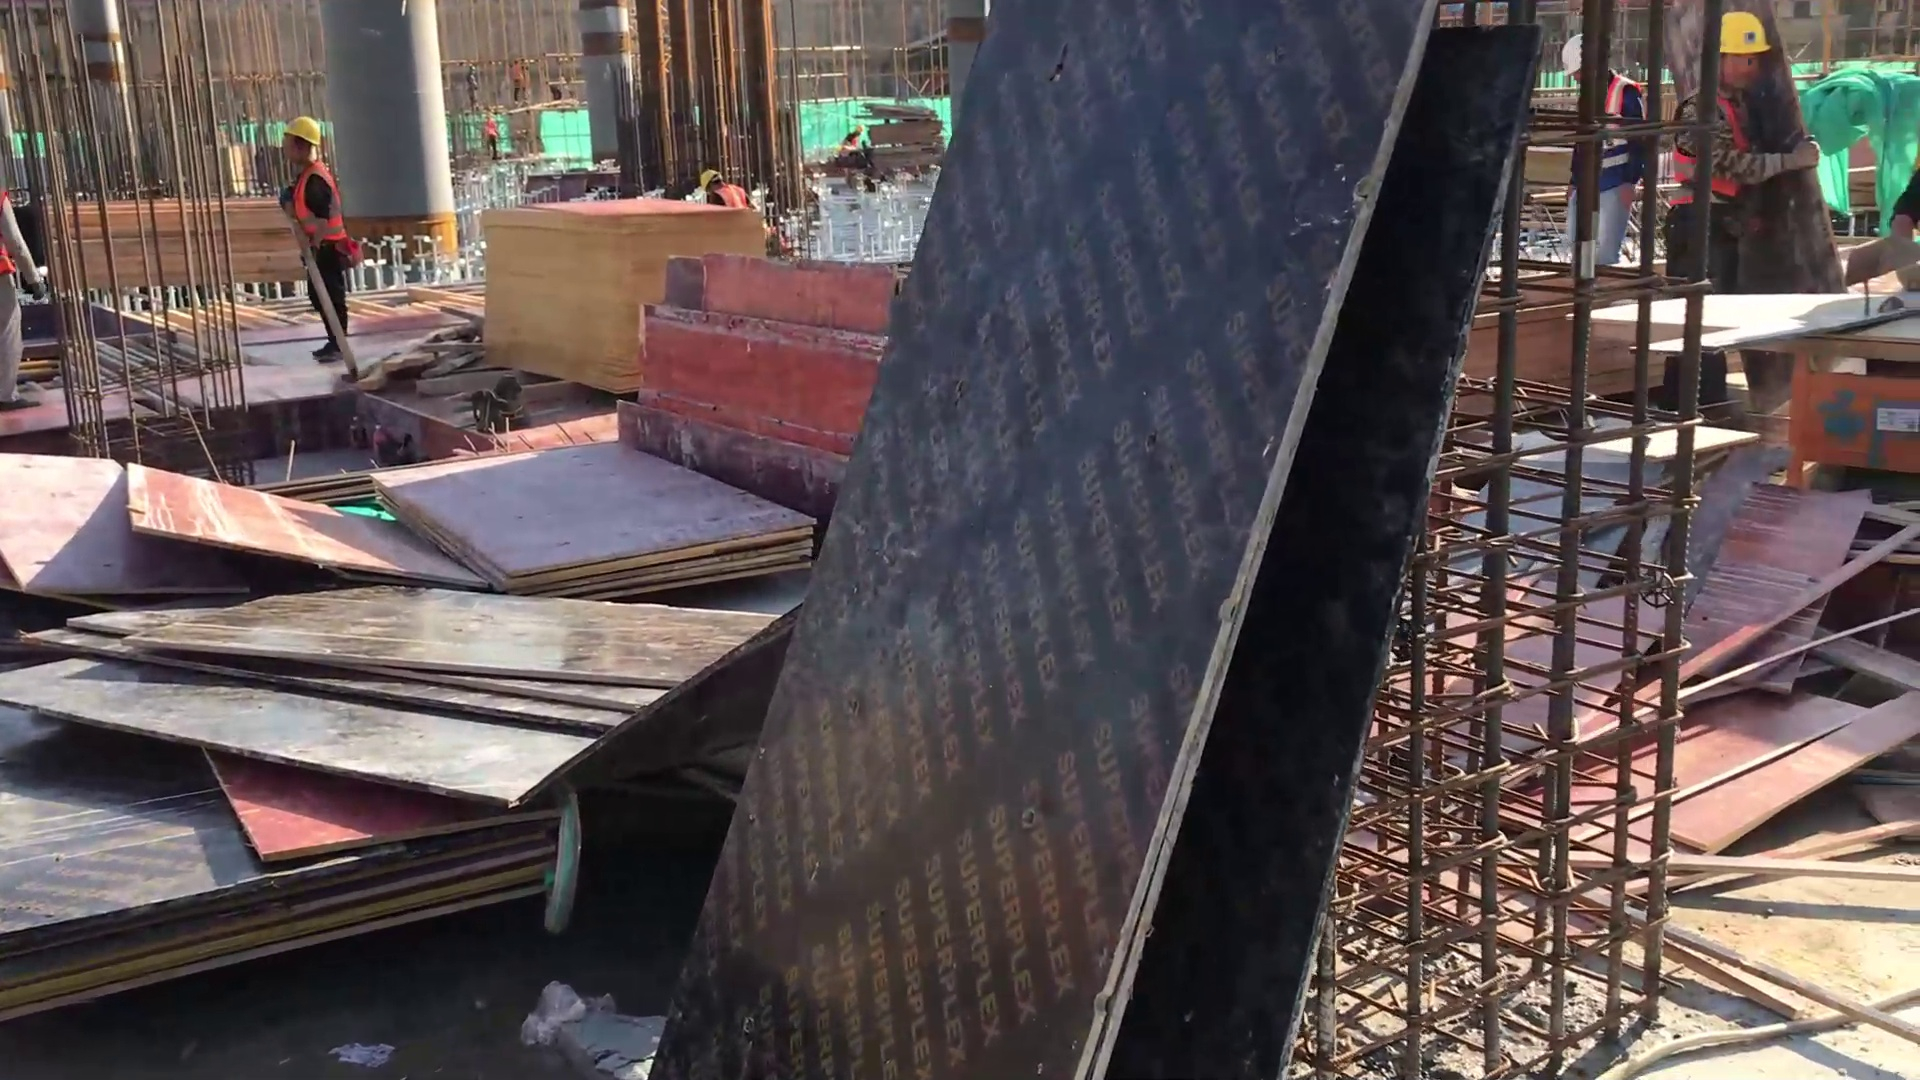board: (377, 437, 804, 585), (483, 196, 659, 399)
cutter: (1794, 262, 1920, 479)
helmet: (1723, 14, 1773, 54), (279, 116, 328, 148), (1557, 32, 1584, 78), (696, 167, 722, 193)
person: (1674, 8, 1774, 275), (277, 117, 366, 363), (697, 164, 762, 211), (845, 120, 866, 143)
vest: (1675, 89, 1751, 209), (284, 158, 356, 250), (1602, 72, 1641, 190), (1, 194, 19, 274), (713, 186, 752, 210), (845, 132, 860, 146)
